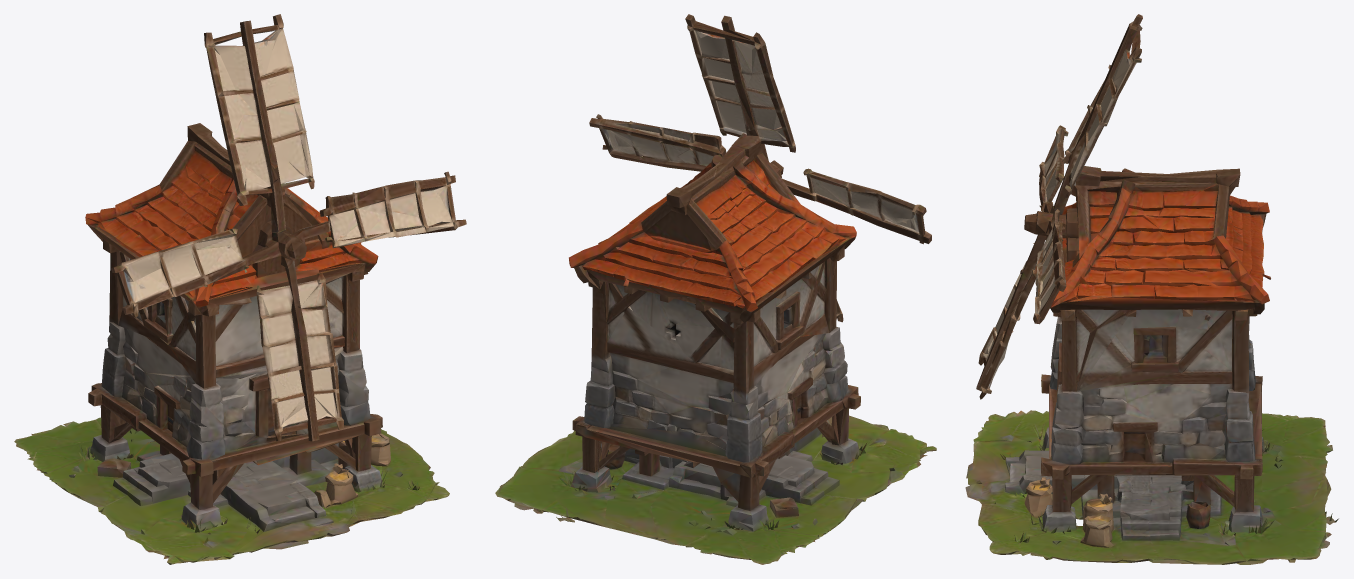
Rendered from farmmill.glb.
3 views of the same model, side by side, from view 1: azimuth 30°, elevation 25°; view 2: azimuth 150°, elevation 25°; view 3: azimuth 270°, elevation 25° (orthographic). The views are drawn at different scales.
Size of the model in its own units: 1.48 by 1.9 by 1.39.
Materials: 1 (1 with a texture image).
